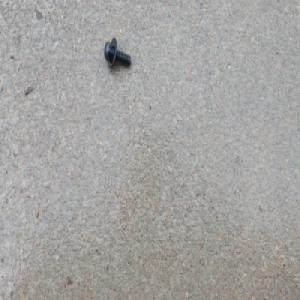BoltWasher: (104, 36, 132, 70)
